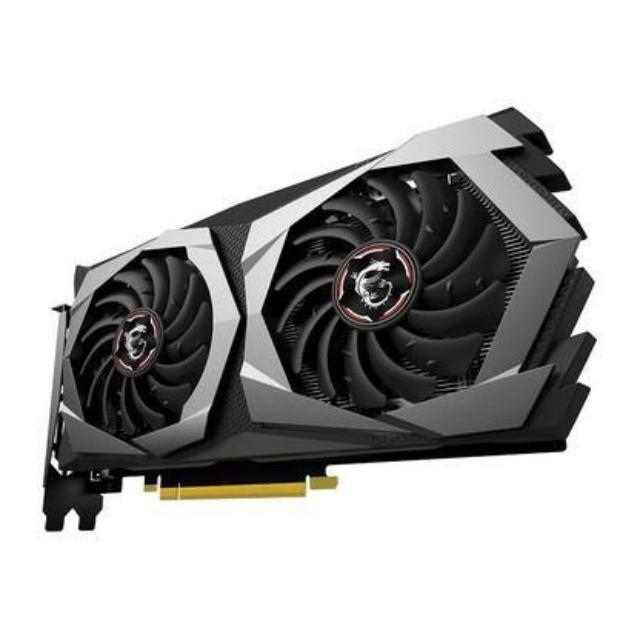GPU: (41, 106, 599, 538)
